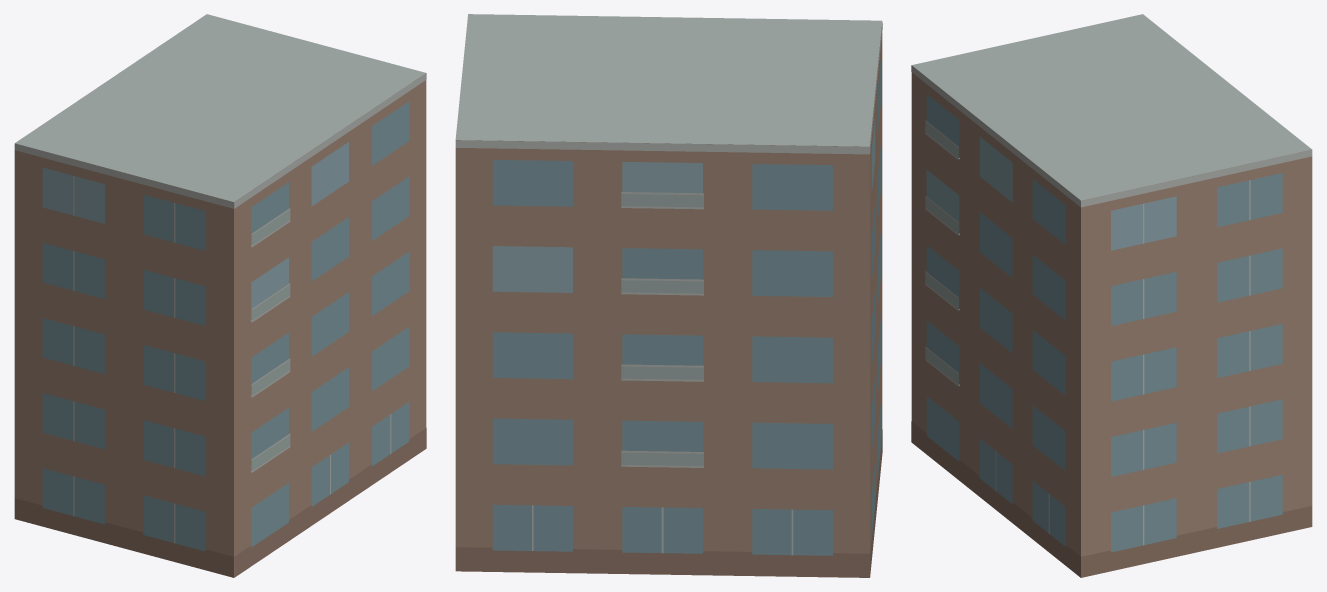
The model's file is survey-upis-32584056.glb.
The picture shows the model from 3 angles, left to right: view 1: azimuth 30°, elevation 25°; view 2: azimuth 150°, elevation 25°; view 3: azimuth 270°, elevation 25°; orthographic projection. The views are drawn at different scales.
Parts seen in each view (by area): view 1: survey-upis-32584056.tmp; view 2: survey-upis-32584056.tmp; view 3: survey-upis-32584056.tmp.
Part boxes in pixels (x1=…): survey-upis-32584056.tmp: x1=14, y1=14, x2=426, y2=577; survey-upis-32584056.tmp: x1=455, y1=14, x2=882, y2=577; survey-upis-32584056.tmp: x1=911, y1=14, x2=1312, y2=577.
Size of the model in its own units: 14.33 by 13.5 by 13.01.
